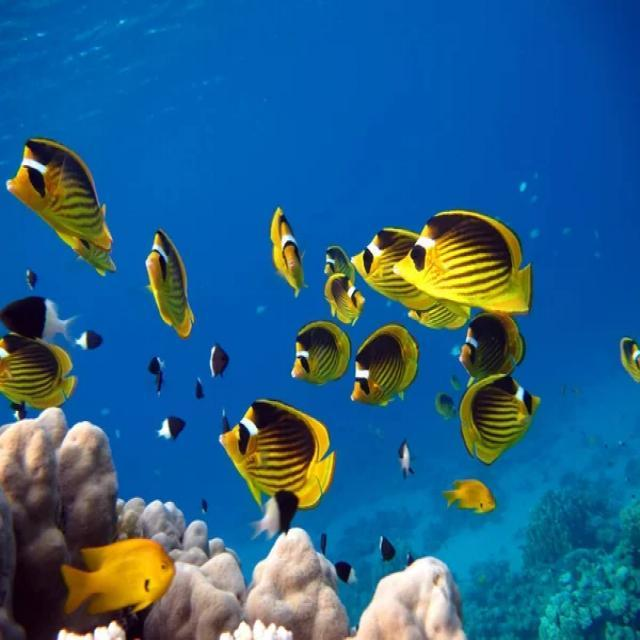ButterflyFish: (205, 395, 357, 525), (7, 130, 134, 274), (397, 198, 537, 314), (444, 372, 566, 464), (339, 317, 432, 433), (332, 218, 445, 308), (133, 230, 205, 358), (0, 310, 84, 418), (240, 200, 328, 298), (440, 302, 549, 380), (276, 317, 356, 374), (606, 322, 640, 417), (320, 268, 377, 316)
